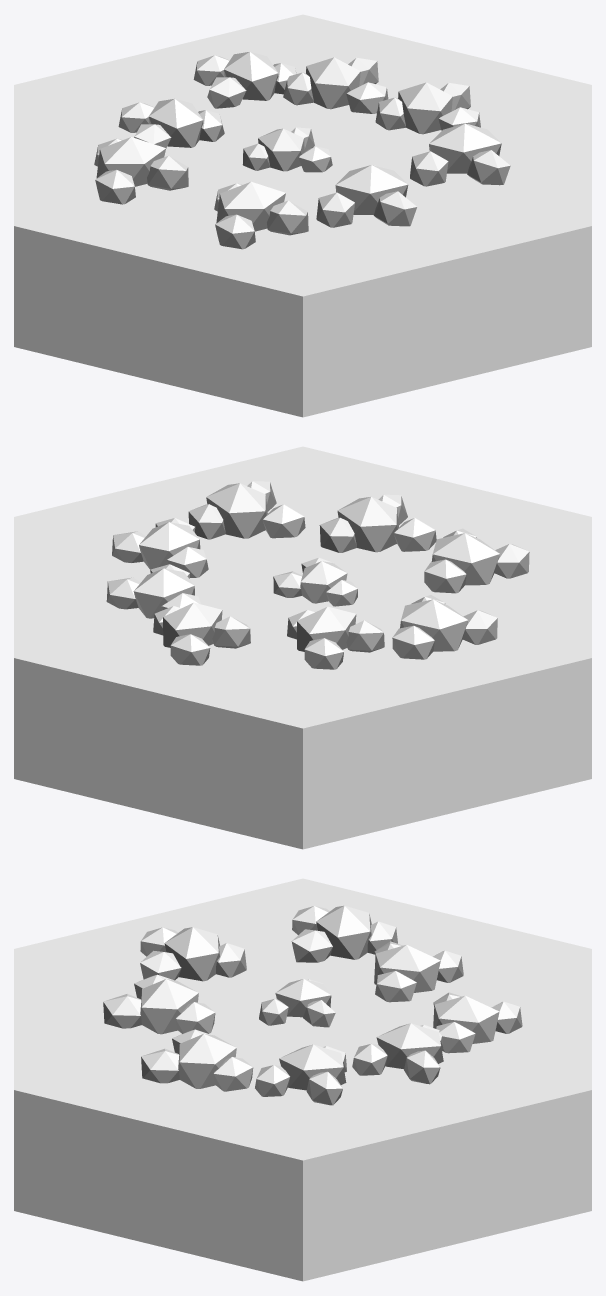
File: Rocoso_Nieve.fbx
The picture shows the model from 3 angles, top to bottom: view 1: azimuth 30°, elevation 25°; view 2: azimuth 150°, elevation 25°; view 3: azimuth 270°, elevation 25°; orthographic projection.
Visible parts, largest first — view 1: Rocoso_Nieve; view 2: Rocoso_Nieve; view 3: Rocoso_Nieve.
Part boxes in pixels (x1=…): Rocoso_Nieve: x1=14, y1=14, x2=591, y2=417; Rocoso_Nieve: x1=14, y1=446, x2=591, y2=849; Rocoso_Nieve: x1=14, y1=878, x2=591, y2=1281.
Size of the model in its own units: 200 by 53.44 by 173.
